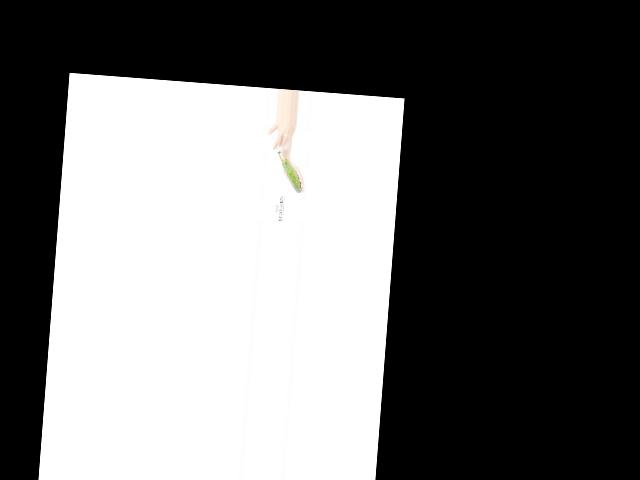cucumber: (279, 158, 303, 192)
